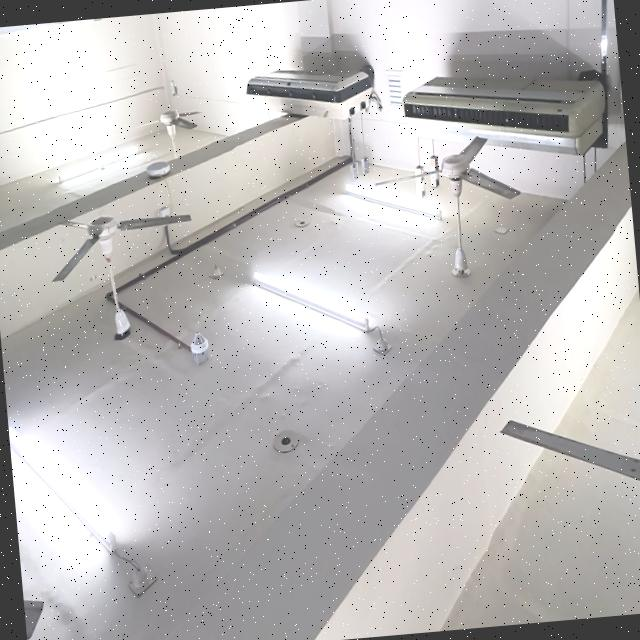Ac: (402, 77, 607, 155), (246, 64, 378, 119)
Light: (8, 428, 110, 549), (252, 272, 391, 355), (345, 182, 441, 219), (58, 146, 138, 183)
